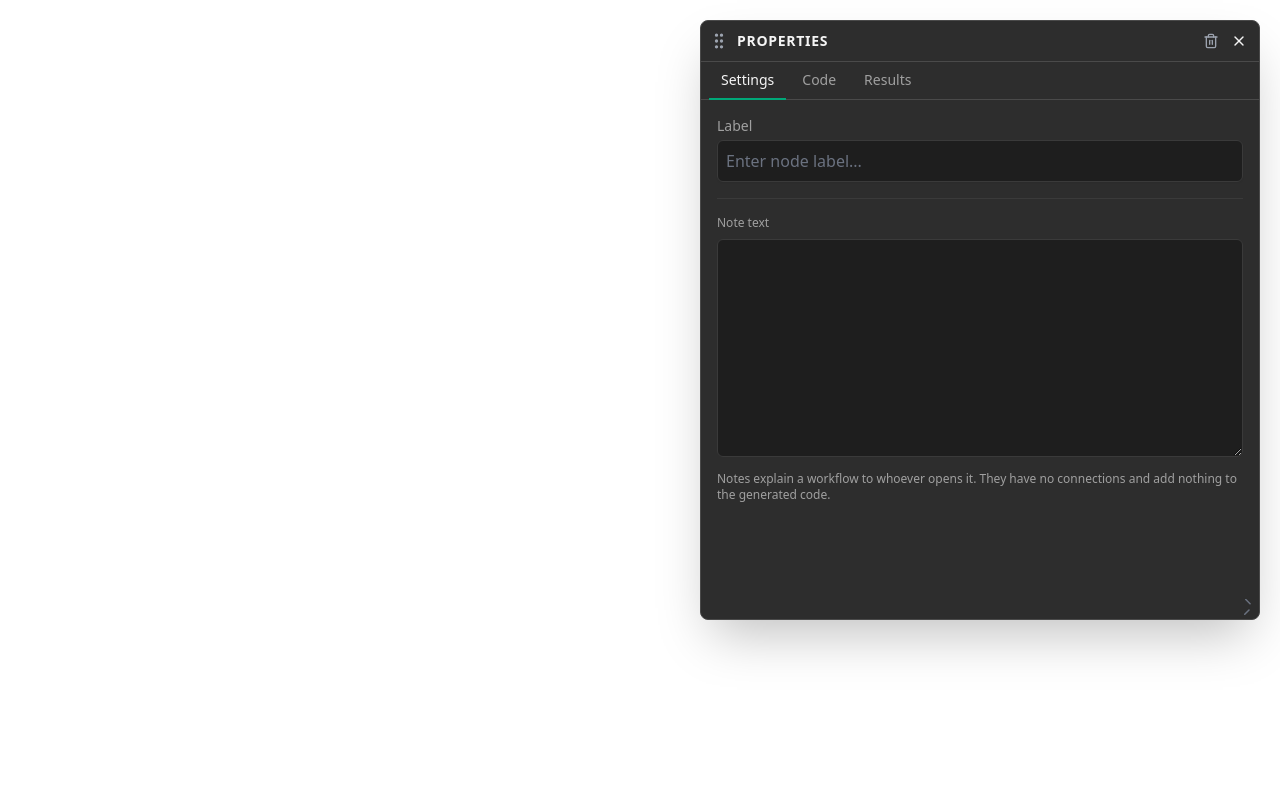
Scenario: PropertiesPanel › closing and deleting › keeps the node when deletion is cancelled
Click the button named "Delete Node": (1211, 41) [1199, 29, 1223, 53]
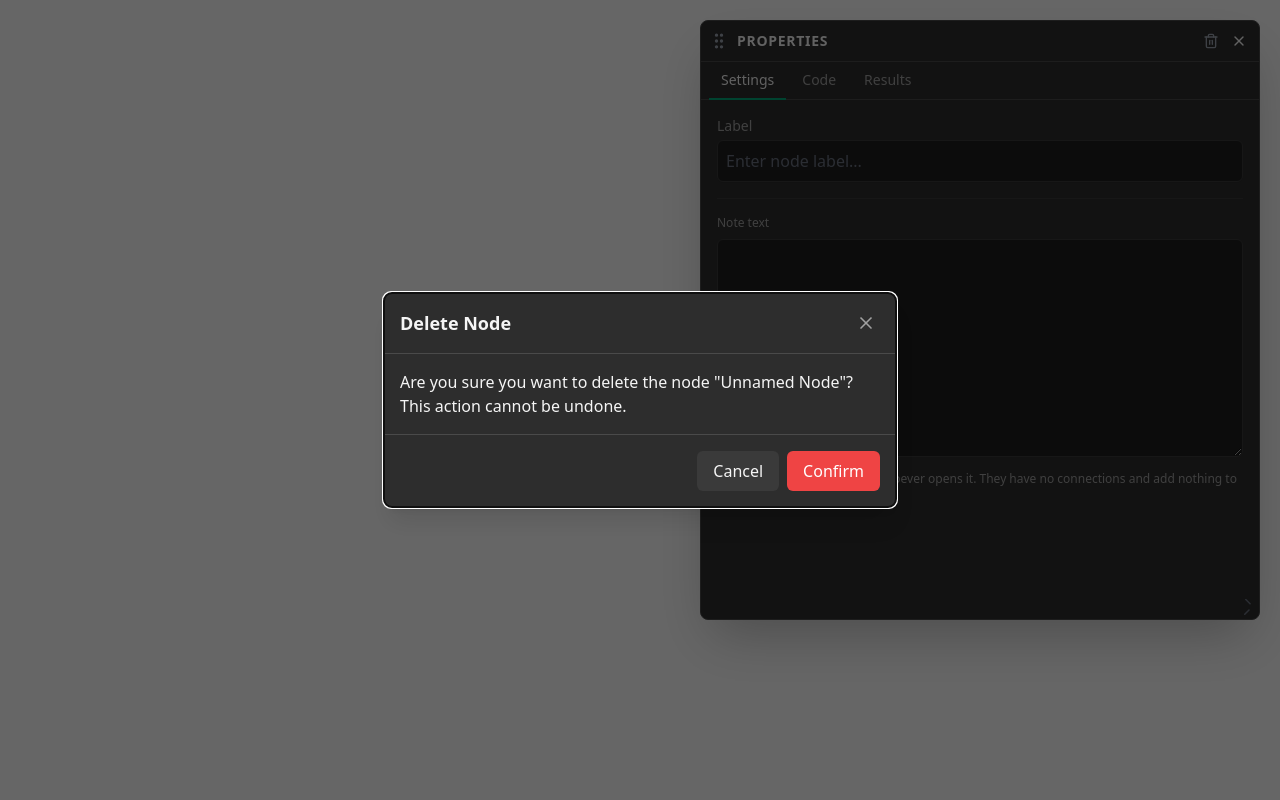
Result: the text "delete the node \"Unnamed Node\"" is shown at [400, 371, 853, 417]
Click the button "Cancel": (738, 471) [697, 451, 779, 491]
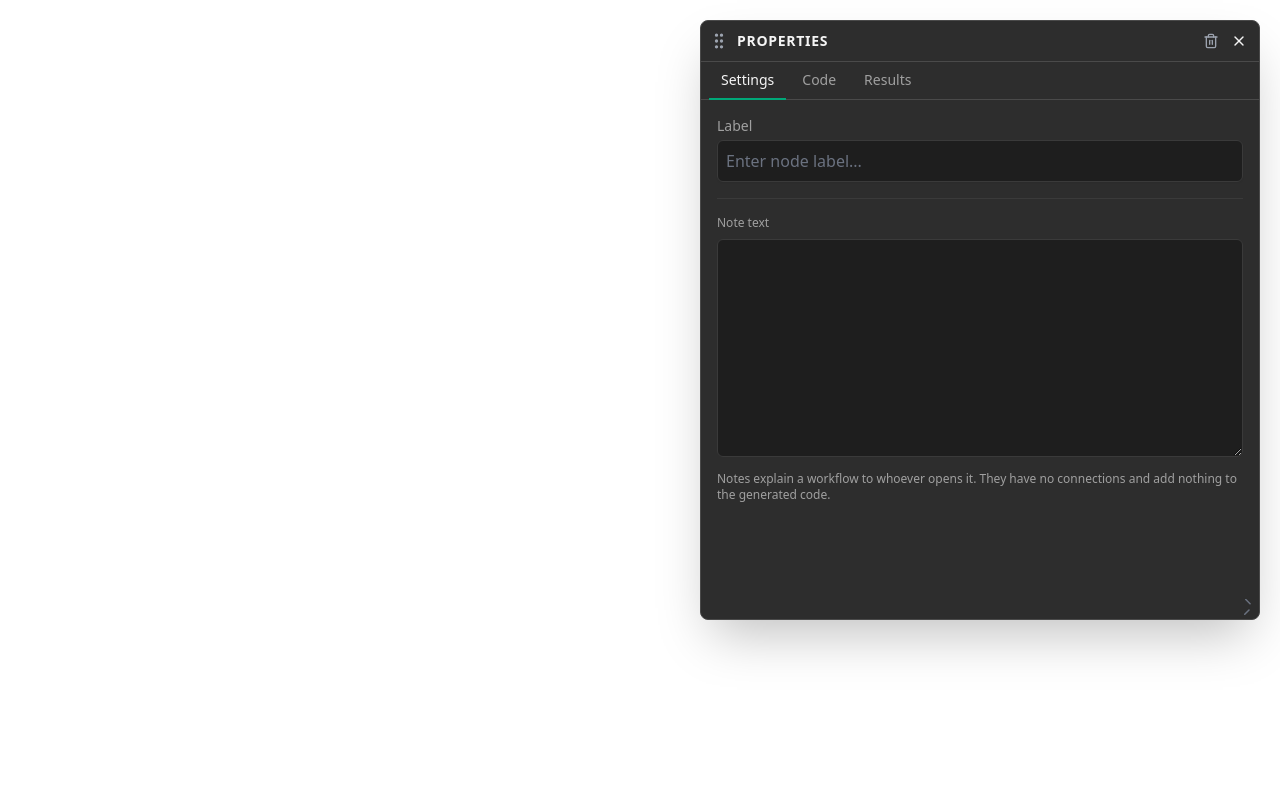
Result: the text "delete the node" is gone
